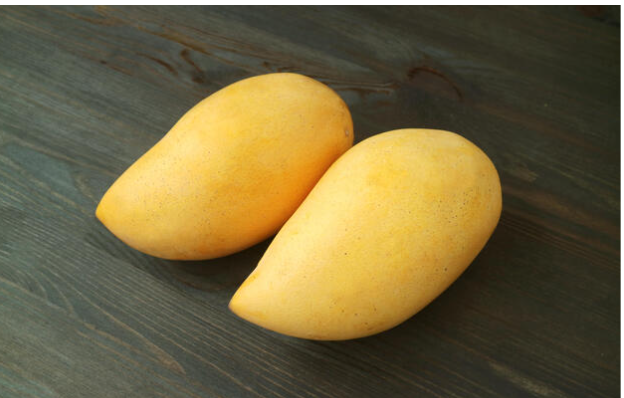mango: (227, 127, 506, 342), (97, 71, 352, 261)
